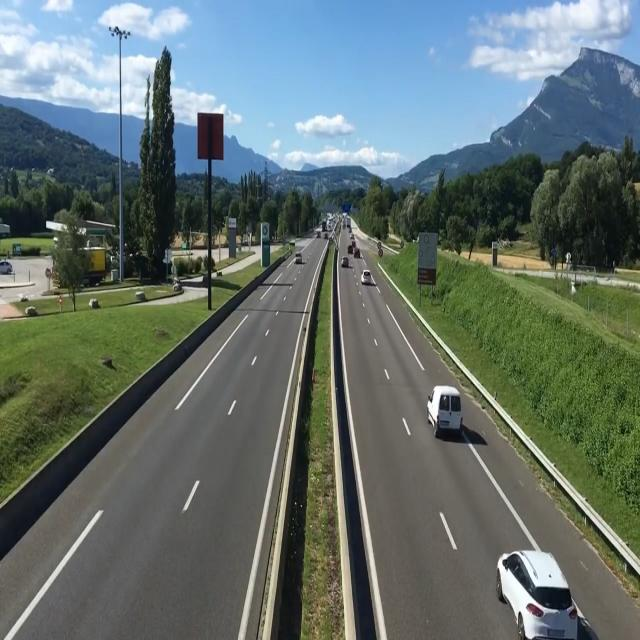car: (497, 549, 587, 640), (430, 385, 465, 443), (358, 256, 373, 292)
